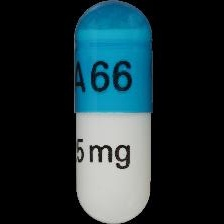68382-106: (0, 0, 224, 224)
